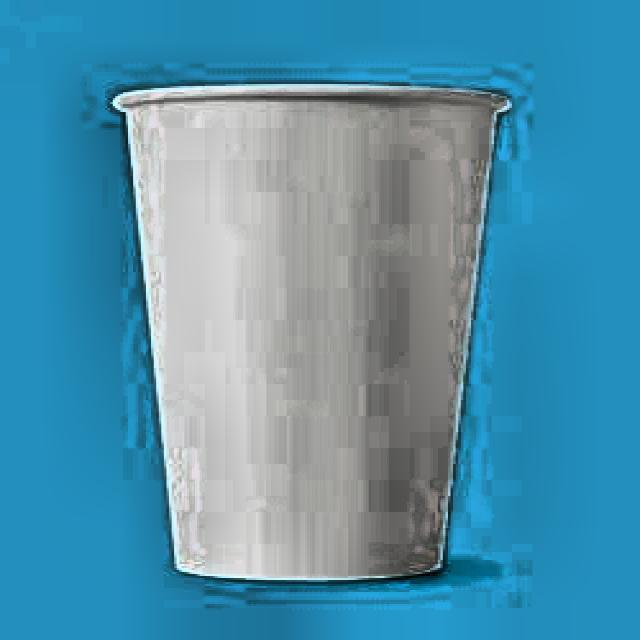Cup: (87, 73, 521, 592)
